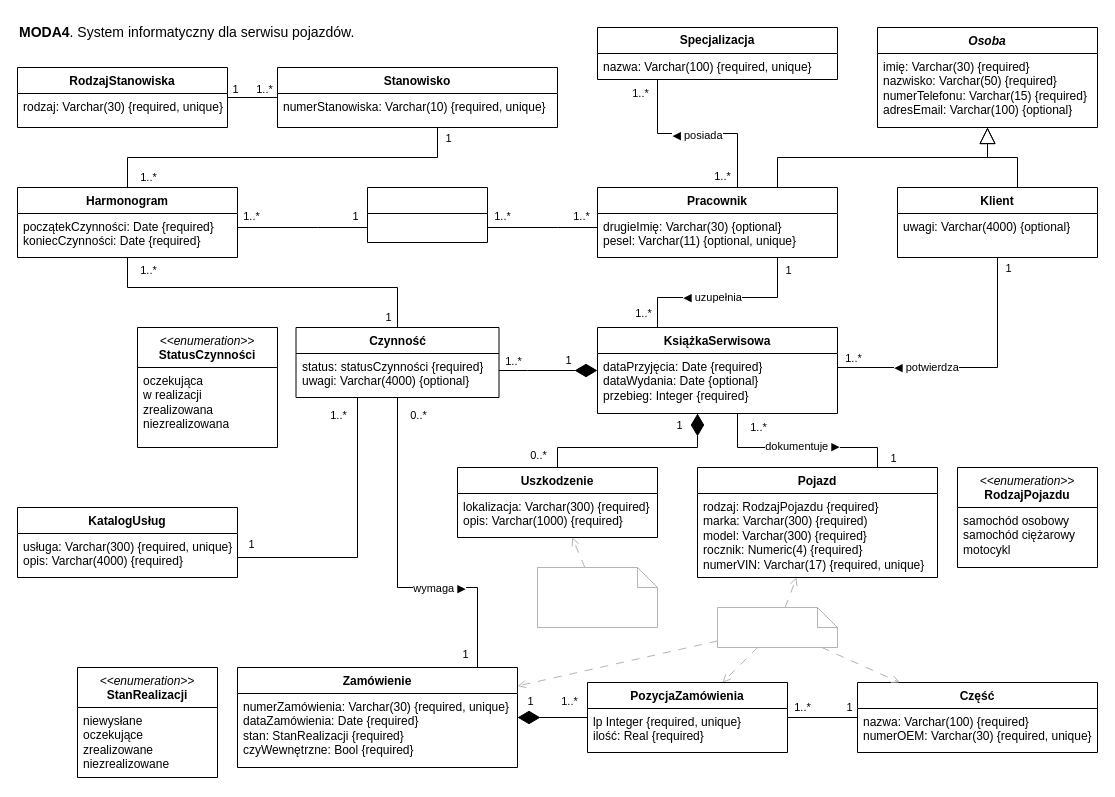
Some shapes in this 1115 by 797 pixel diagram are drawn without their labels. The shapes that lost their labels are listed below. From the top down, each one's centre as x and y in pixels, then its label:
At point 427,214: "Zespół".
At point 597,597: "Dotyczy zaobserwowanych uszkodzeń".
At point 777,627: "Dane dla EDI".
